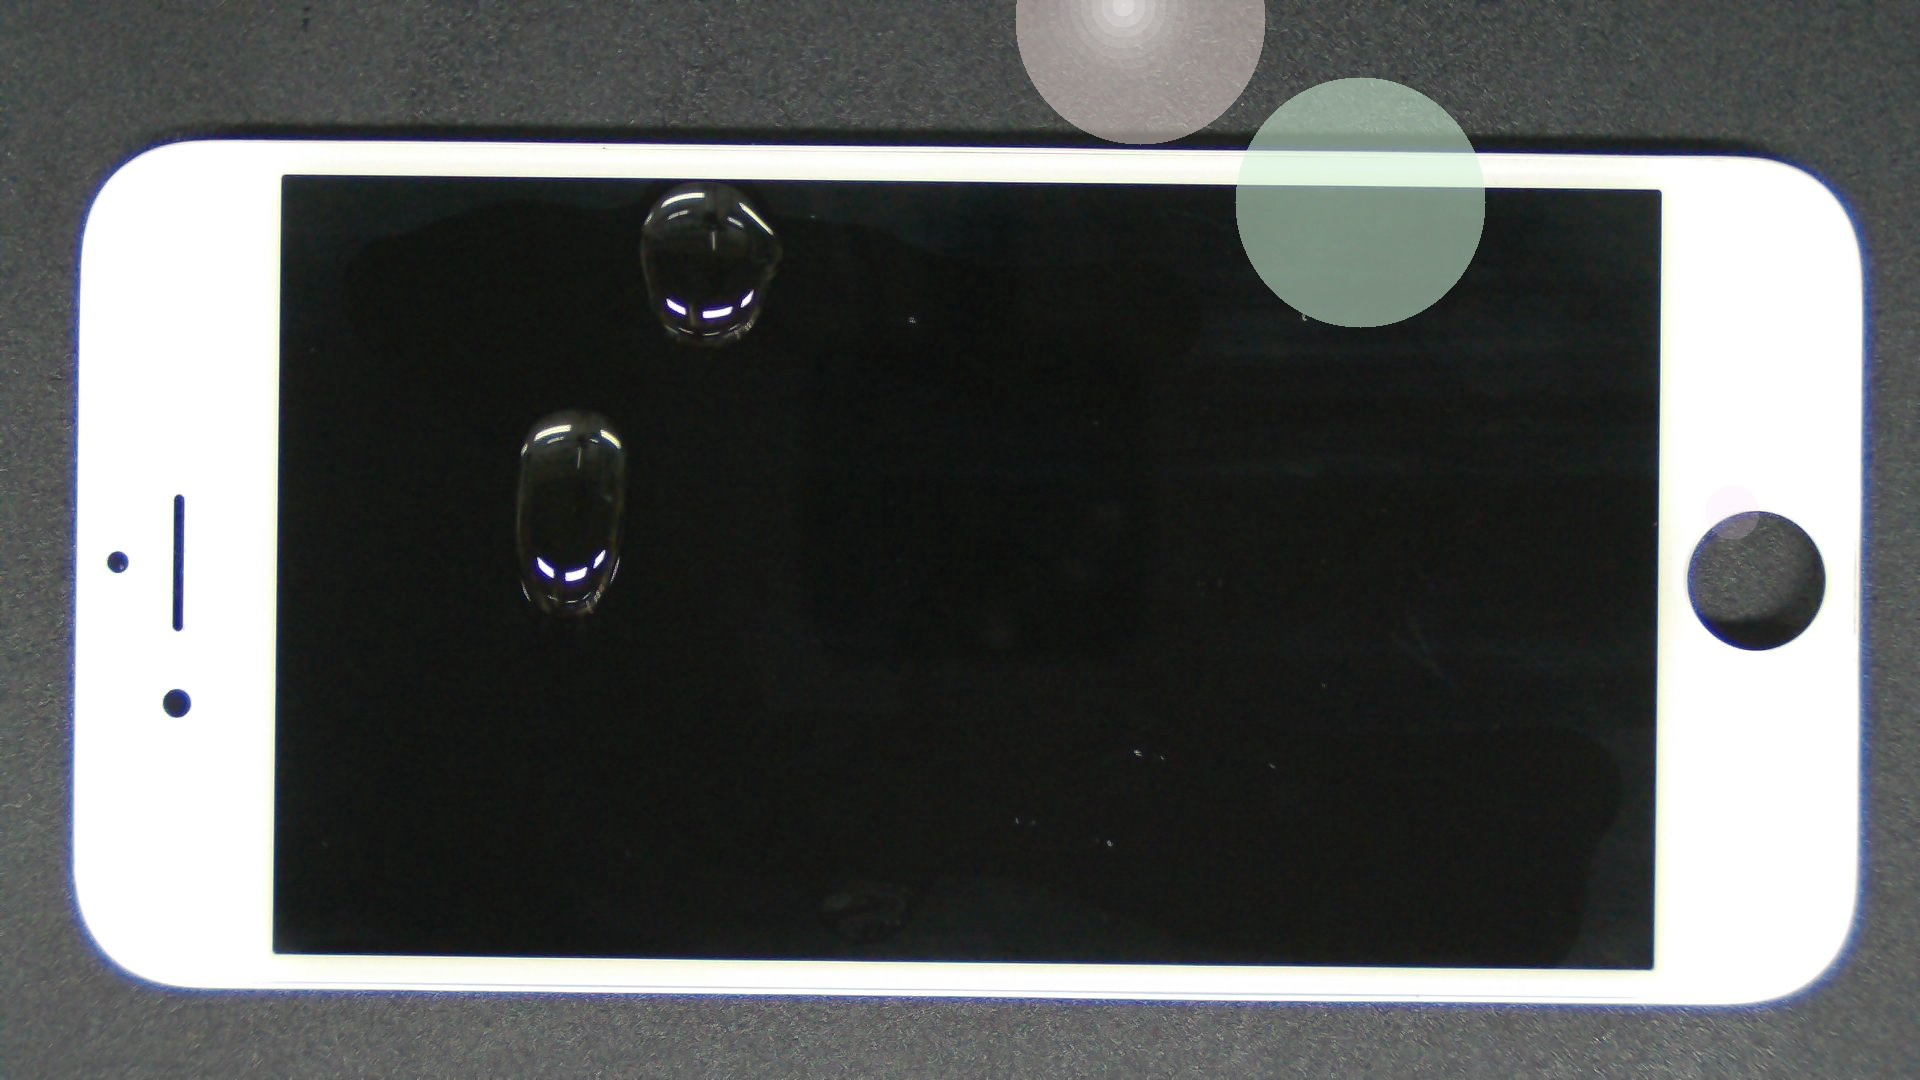oil: (287, 203, 858, 611), (348, 90, 1043, 272)
